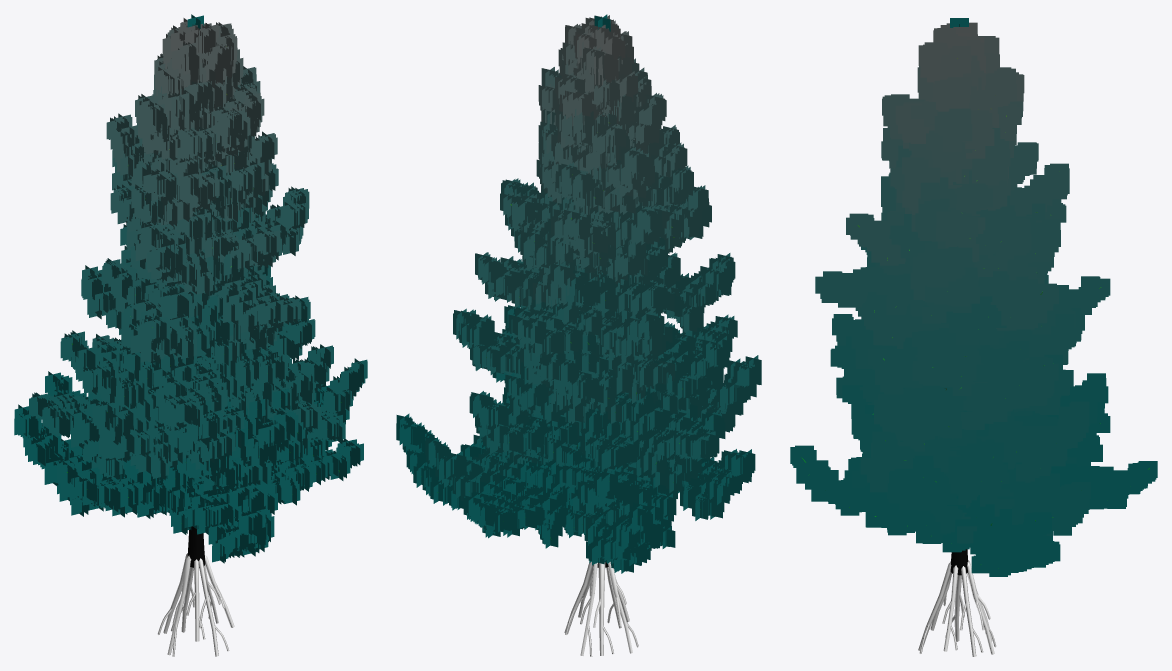
3 views of the same model, side by side, from view 1: azimuth 30°, elevation 25°; view 2: azimuth 150°, elevation 25°; view 3: azimuth 270°, elevation 25° (orthographic).
Visible parts, largest first — view 1: Foliage, RootTips, Trunk; view 2: Foliage, RootTips; view 3: Foliage, RootTips.
Boxes of the visible parts, x1=… form: Foliage: x1=14, y1=14, x2=367, y2=563; RootTips: x1=157, y1=553, x2=234, y2=656; Trunk: x1=187, y1=526, x2=205, y2=567; Foliage: x1=396, y1=14, x2=761, y2=573; RootTips: x1=564, y1=561, x2=638, y2=656; Foliage: x1=790, y1=18, x2=1157, y2=576; RootTips: x1=918, y1=560, x2=996, y2=656.
Bounding box in the file's own units: 8729 × 8754 × 16757.
